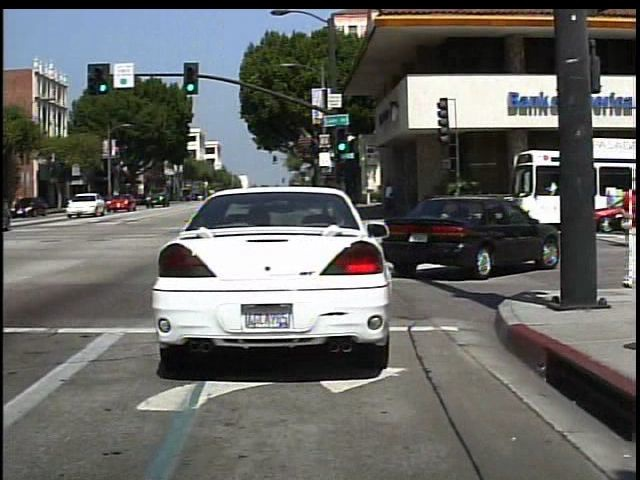person: (616, 167, 639, 291), (381, 177, 399, 218)
